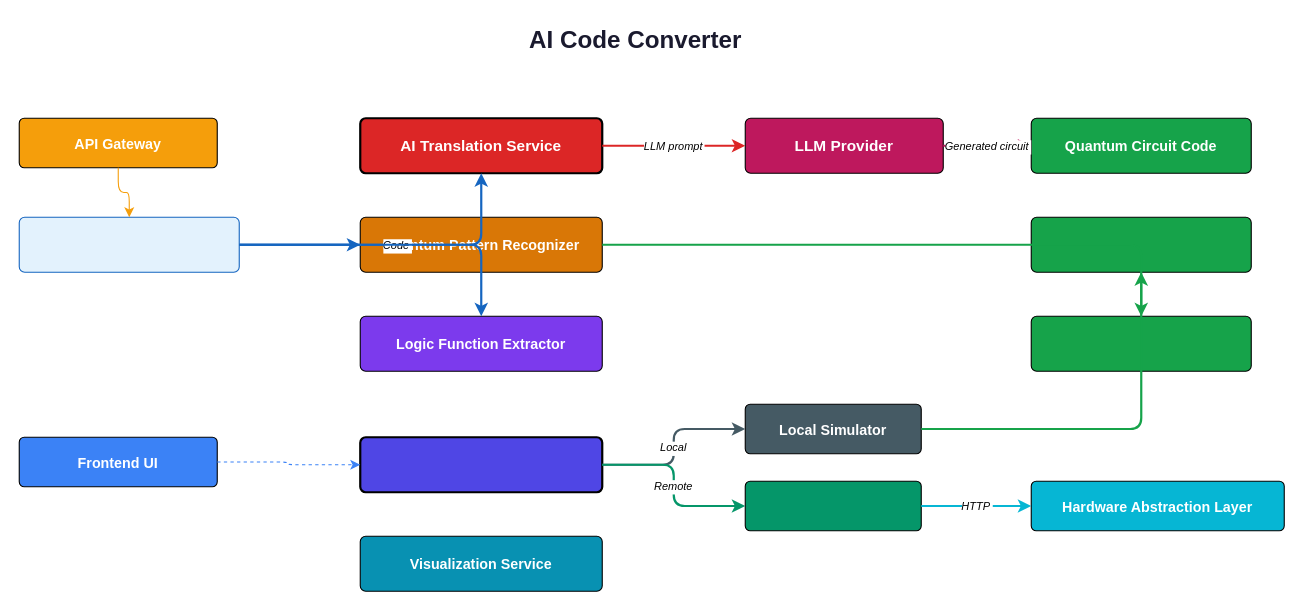
The diagram is 1304 pixels wide and 611 high, and some of its shapes have lost their labels. Each missing label, with the box of its shape:
Execution Results: (1030, 216, 1251, 272)
HAL Client: (744, 480, 921, 531)
Python Source Code: (18, 216, 239, 272)
Quantum Execution Service: (359, 436, 603, 493)
Quantum Suitability Report: (1030, 315, 1251, 371)
